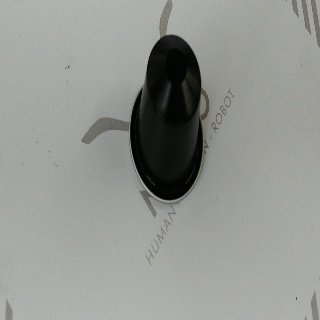capsule_10: (129, 34, 204, 204)
